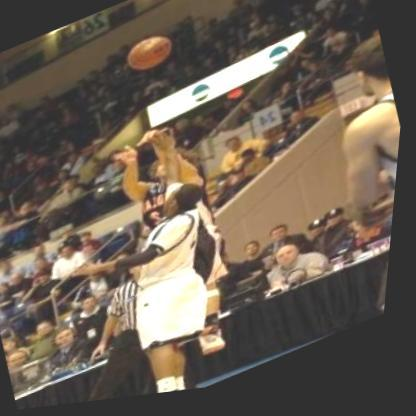basketball: (120, 28, 181, 84)
